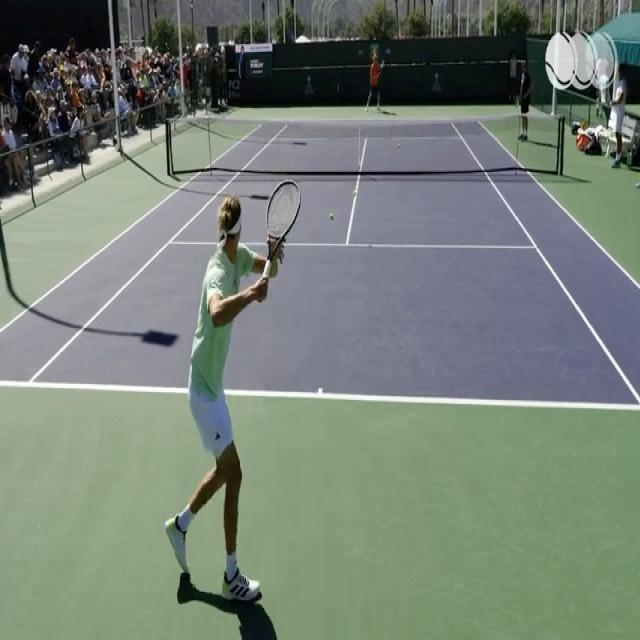forehand-ready: (164, 173, 303, 606)
